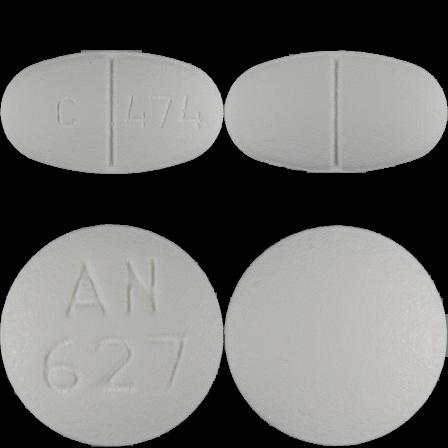51138-076: (0, 0, 224, 224)
